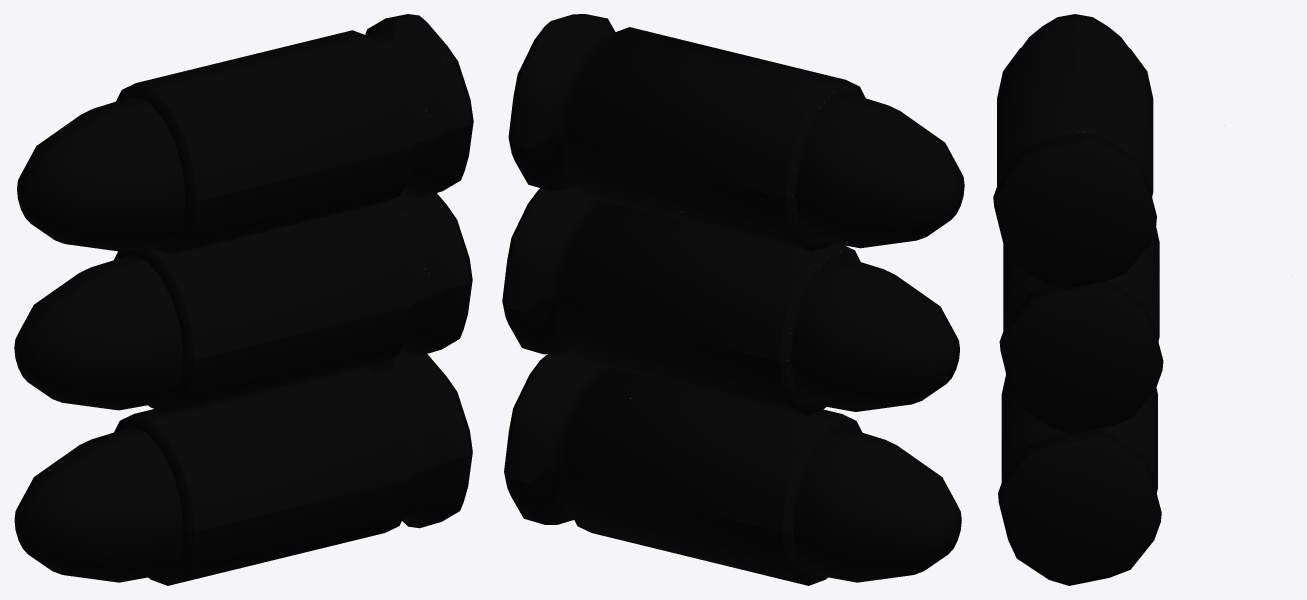
Rendered from Damage.fbx.
3 renders of one model, left to right at view 1: azimuth 30°, elevation 25°; view 2: azimuth 150°, elevation 25°; view 3: azimuth 270°, elevation 25°, orthographic. The views are drawn at different scales.
Parts seen in each view (by area): view 1: node_id115, node_id76, node_id73; view 2: node_id115, node_id76, node_id73; view 3: node_id115, node_id76, node_id73.
Boxes of the visible parts, x1,y1,x2,y2 form: node_id115: (17,14,473,254); node_id76: (14,349,472,585); node_id73: (14,190,472,413); node_id115: (508,14,964,251); node_id76: (504,349,961,585); node_id73: (502,186,959,415); node_id115: (993,14,1156,289); node_id76: (998,374,1161,585); node_id73: (999,227,1163,434).
Bounding box in the file's own units: 0.4417 × 0.512 × 0.3131.
Materials: 27 (3 with a texture image).
